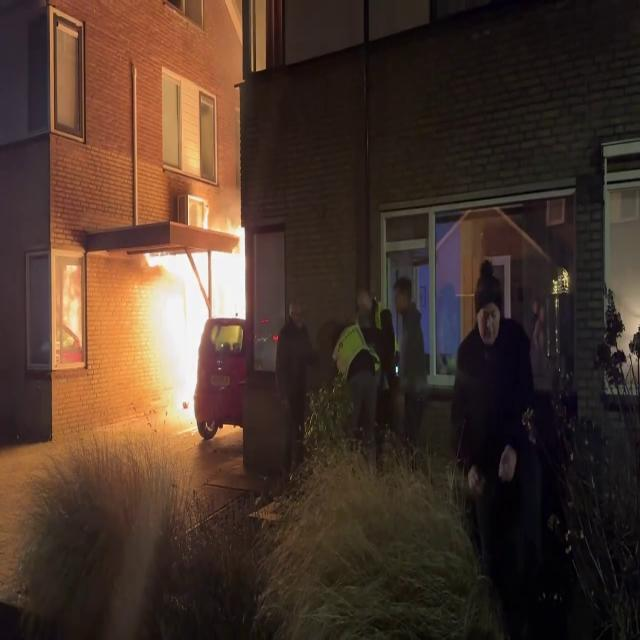Fire: (135, 190, 249, 430)
